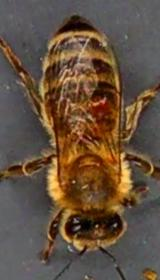varroa_mite: (80, 85, 116, 123)
